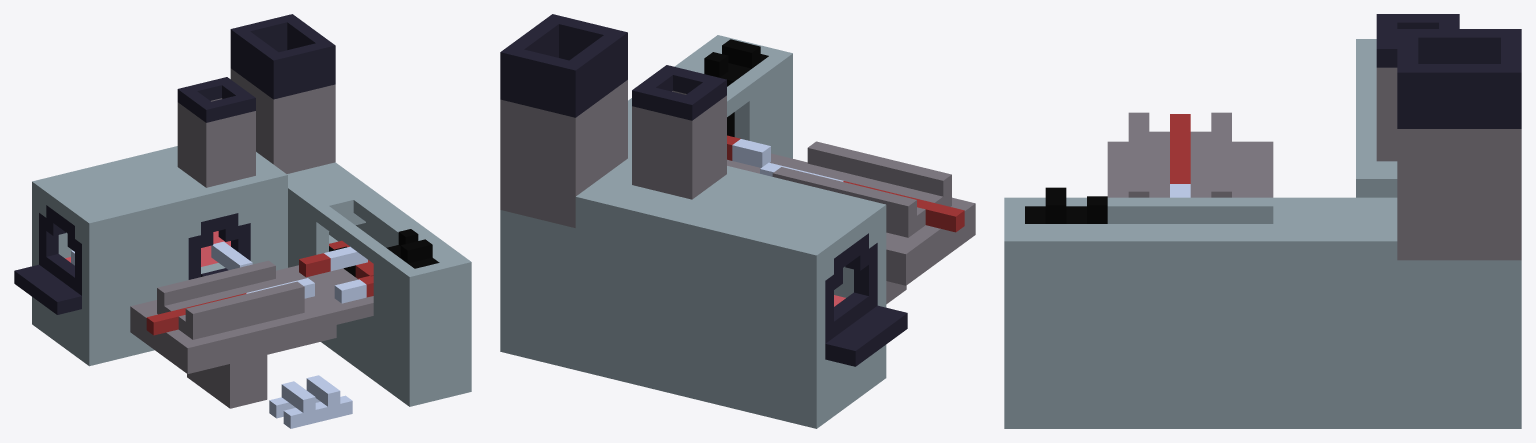
Rendered from smith_3.obj.
3 renders of one model, left to right at view 1: azimuth 30°, elevation 25°; view 2: azimuth 150°, elevation 25°; view 3: azimuth 270°, elevation 25°, orthographic. The views are drawn at different scales.
Bounding box in the file's own units: 2.3 × 1.9 × 2.5.
1 material, 1 textured.
